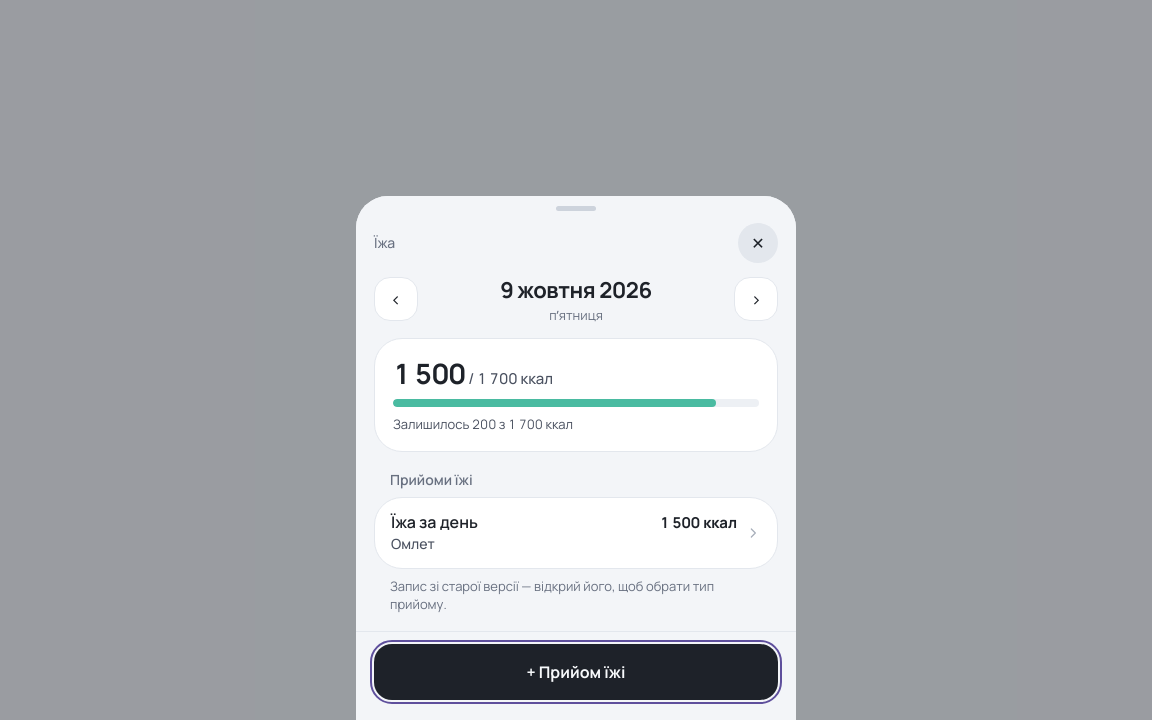
Test: «Їжа»: the day’s list › «+ Прийом їжі» stacks «Прийом їжі» above «Їжа» (inert below), «Що я їла» focused inside the tap
Click the button with aria-label "Додати прийом їжі" at [576, 672], box [374,644,778,700]
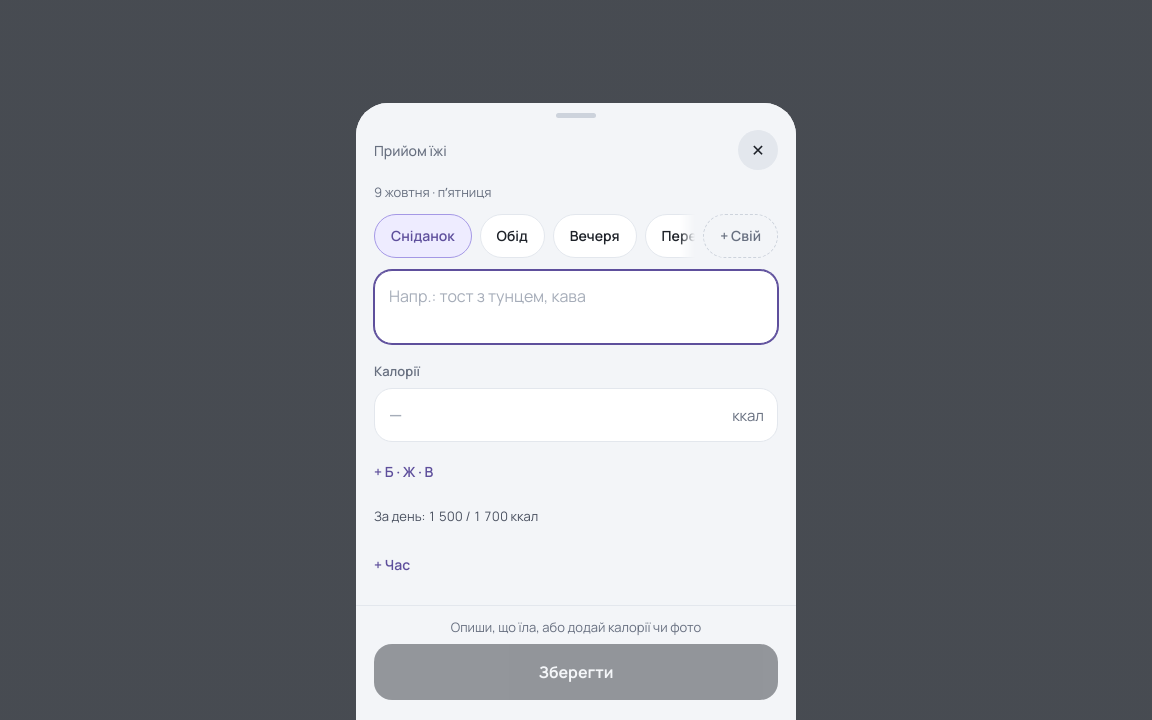
expect the number of dialogs is 2: met, box [356,196,796,719]; [356,103,796,719]
expect the text "9 жовтня · пʼятниця" is shown: met, box [374,183,492,201]
Type "Борщ" into the text box named "Що я їла" at [576, 307], box [374,270,778,344]
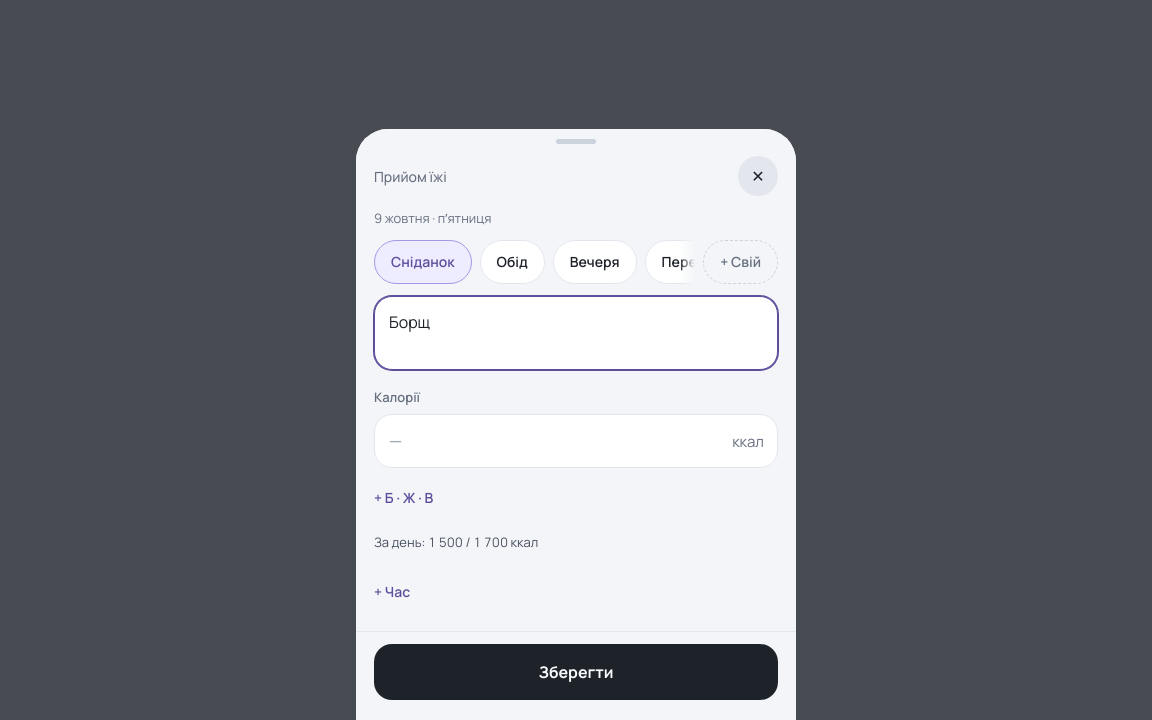
Click the button "Зберегти" at [576, 672], box [374,644,778,700]
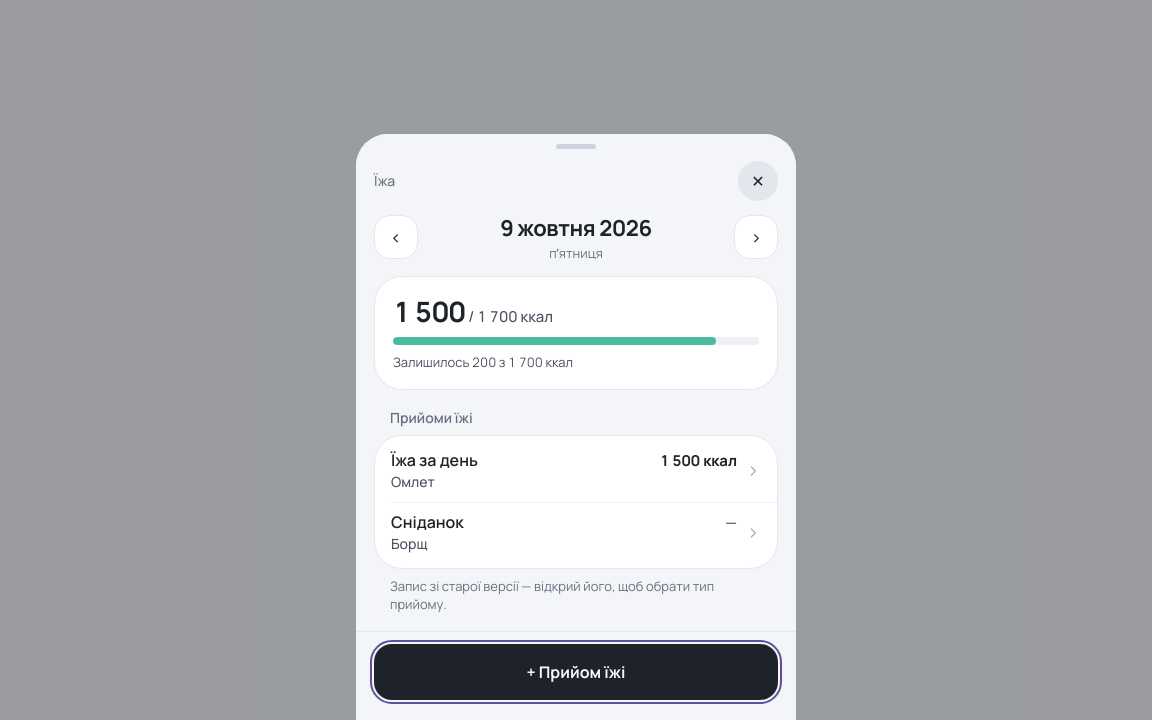
expect the number of dialogs is 1: met, box [356,134,796,719]
